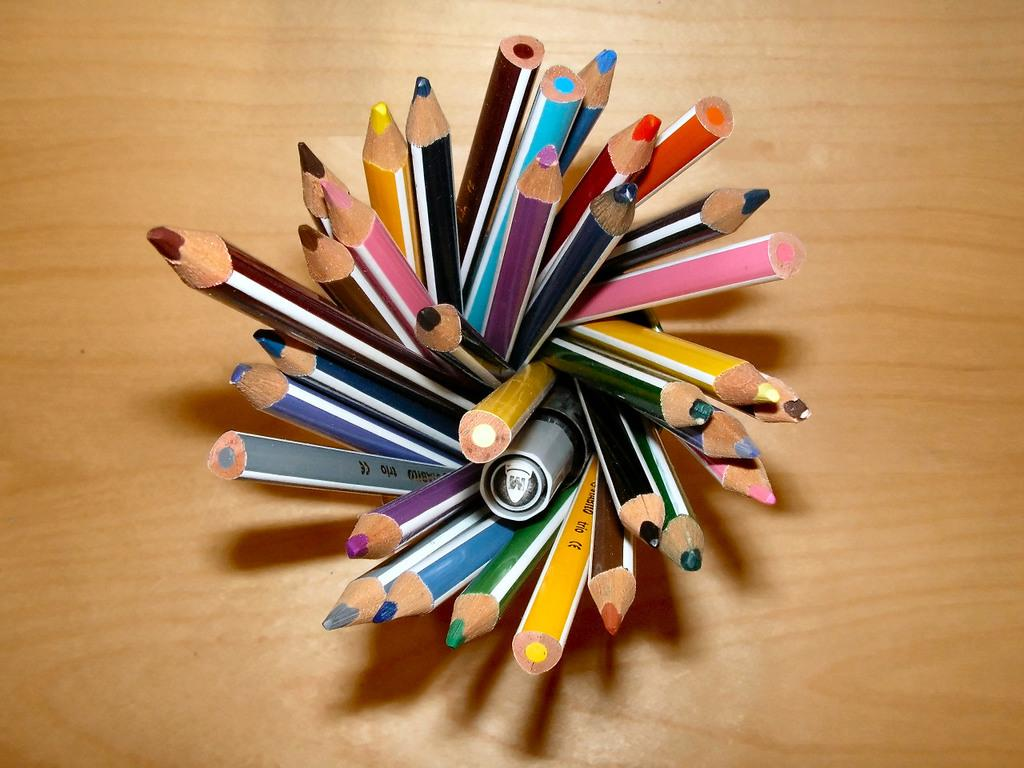pen: (483, 367, 595, 526)
